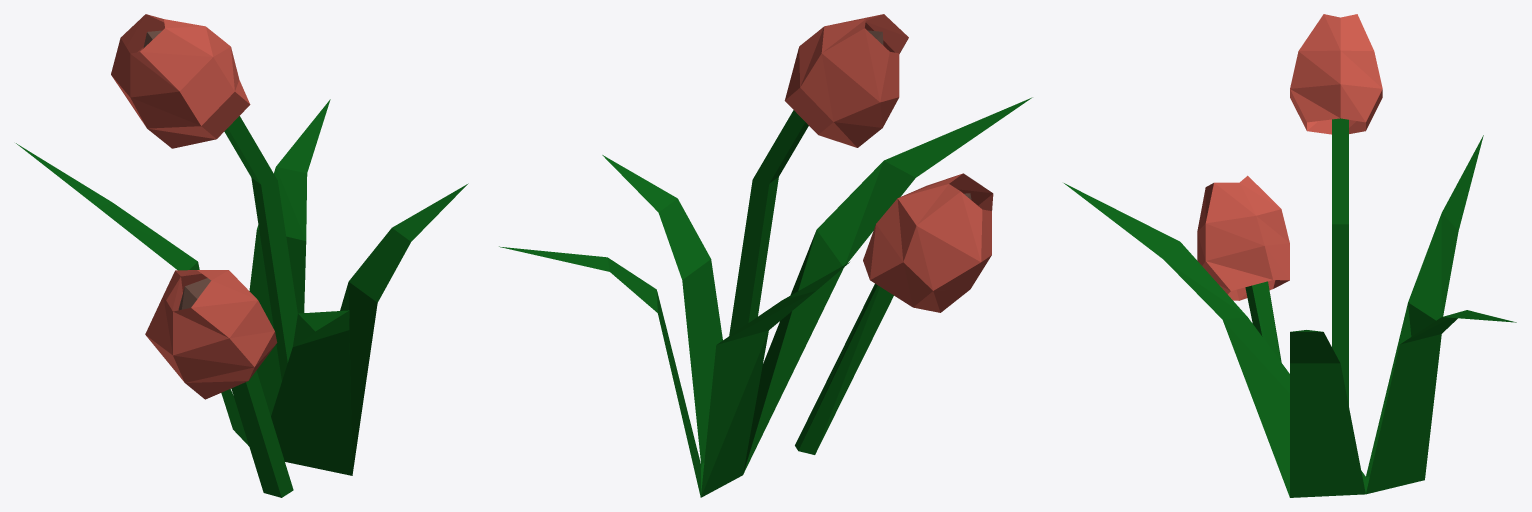
The model's file is obj_tulips_0.obj.
3 views of the same model, side by side, from view 1: azimuth 30°, elevation 25°; view 2: azimuth 150°, elevation 25°; view 3: azimuth 270°, elevation 25° (orthographic). The views are drawn at different scales.
Size of the model in its own units: 0.3281 by 0.4219 by 0.4219.
